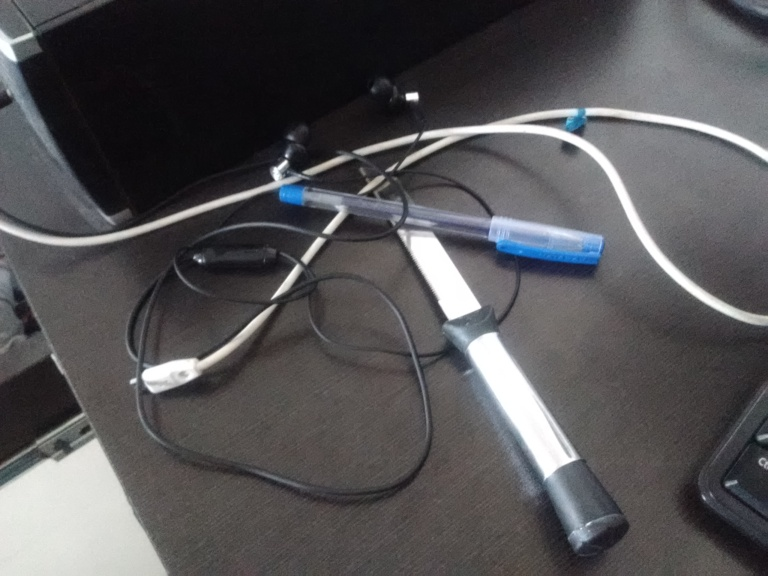knife: (355, 162, 629, 555)
